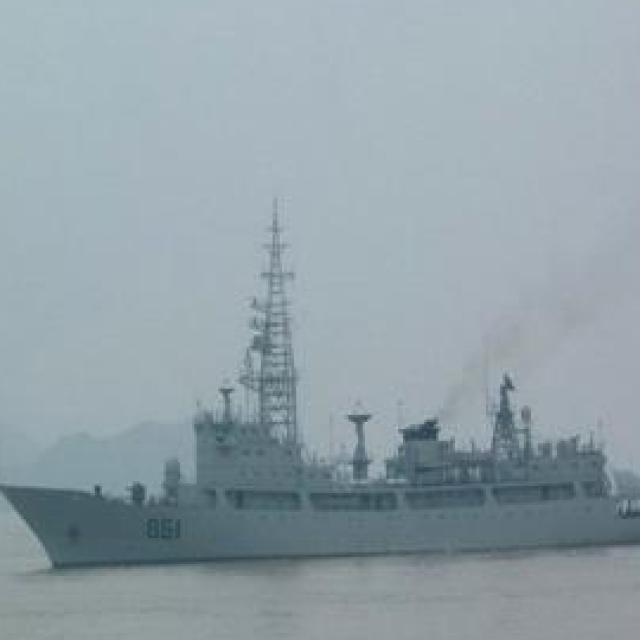navalvessels: (2, 216, 640, 569)
